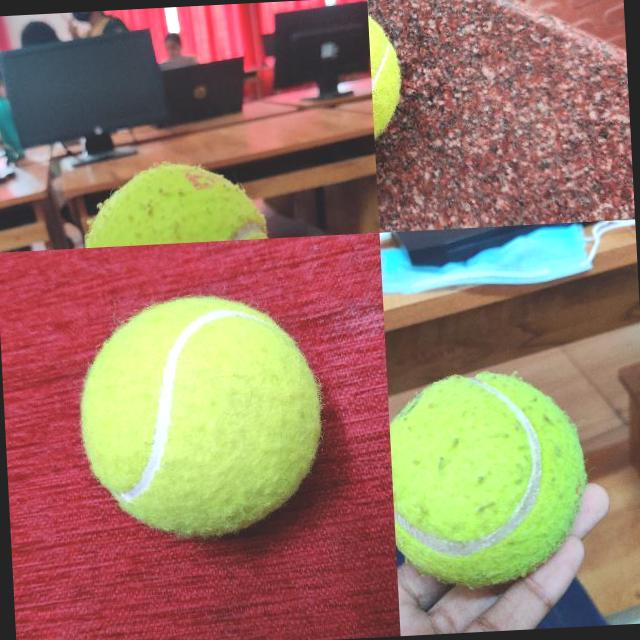tennis-ball: (74, 290, 327, 544), (387, 367, 591, 590), (78, 158, 270, 248)
